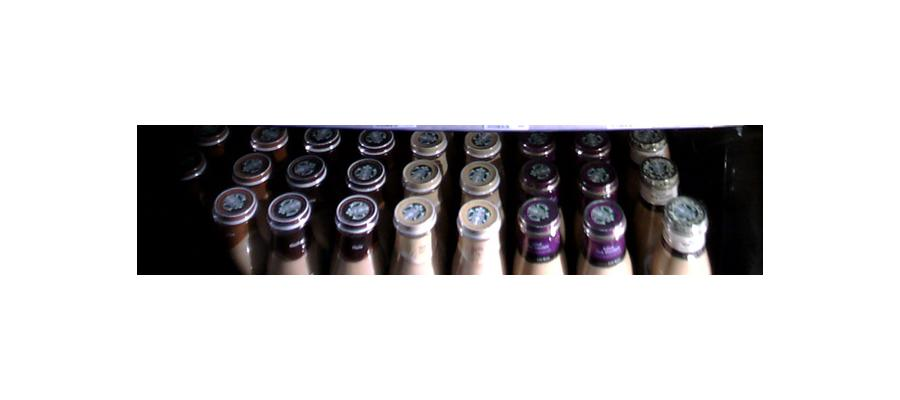bottle: (632, 137, 681, 271), (572, 162, 628, 272), (655, 187, 709, 278), (450, 186, 504, 274), (326, 189, 380, 274), (514, 186, 566, 272), (389, 191, 437, 274), (268, 190, 314, 275), (217, 181, 259, 271)
